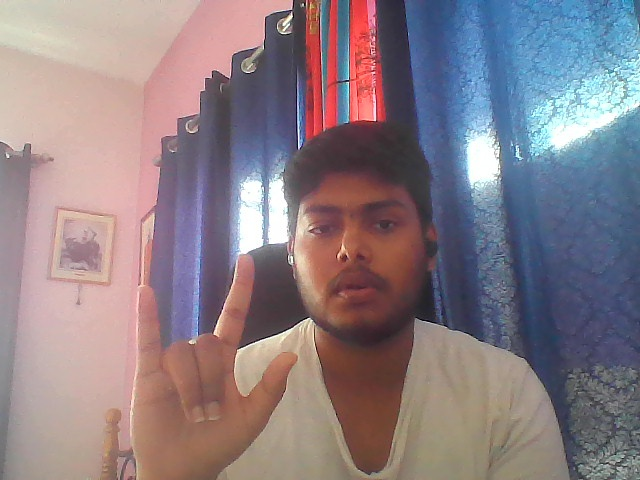I Love You: (120, 248, 302, 474)
